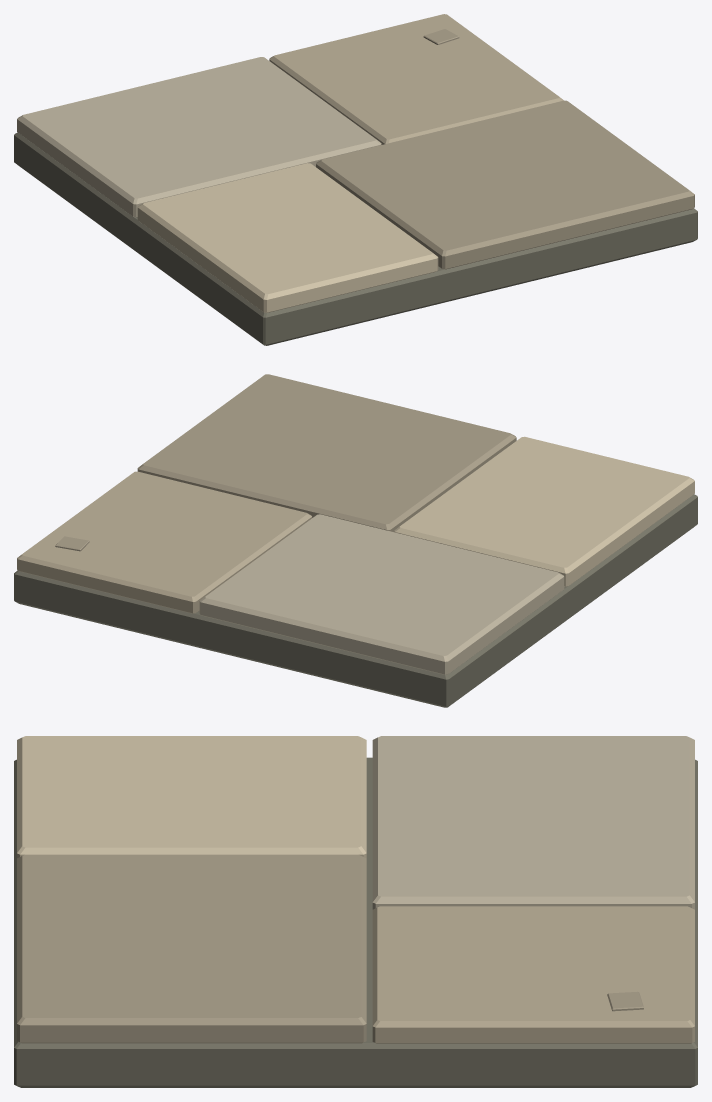
File: Paving_B_2x2.fbx
3 renders of one model, top to bottom at view 1: azimuth 30°, elevation 25°; view 2: azimuth 150°, elevation 25°; view 3: azimuth 270°, elevation 25°, orthographic. The views are drawn at different scales.
Visible parts, largest first — view 1: Paving_B_2x2; view 2: Paving_B_2x2; view 3: Paving_B_2x2.
Part boxes in pixels (bbox=[...]): Paving_B_2x2: bbox=[14, 14, 697, 345]; Paving_B_2x2: bbox=[14, 374, 697, 707]; Paving_B_2x2: bbox=[14, 736, 697, 1087].
Size of the model in its own units: 2 by 0.22 by 2.
